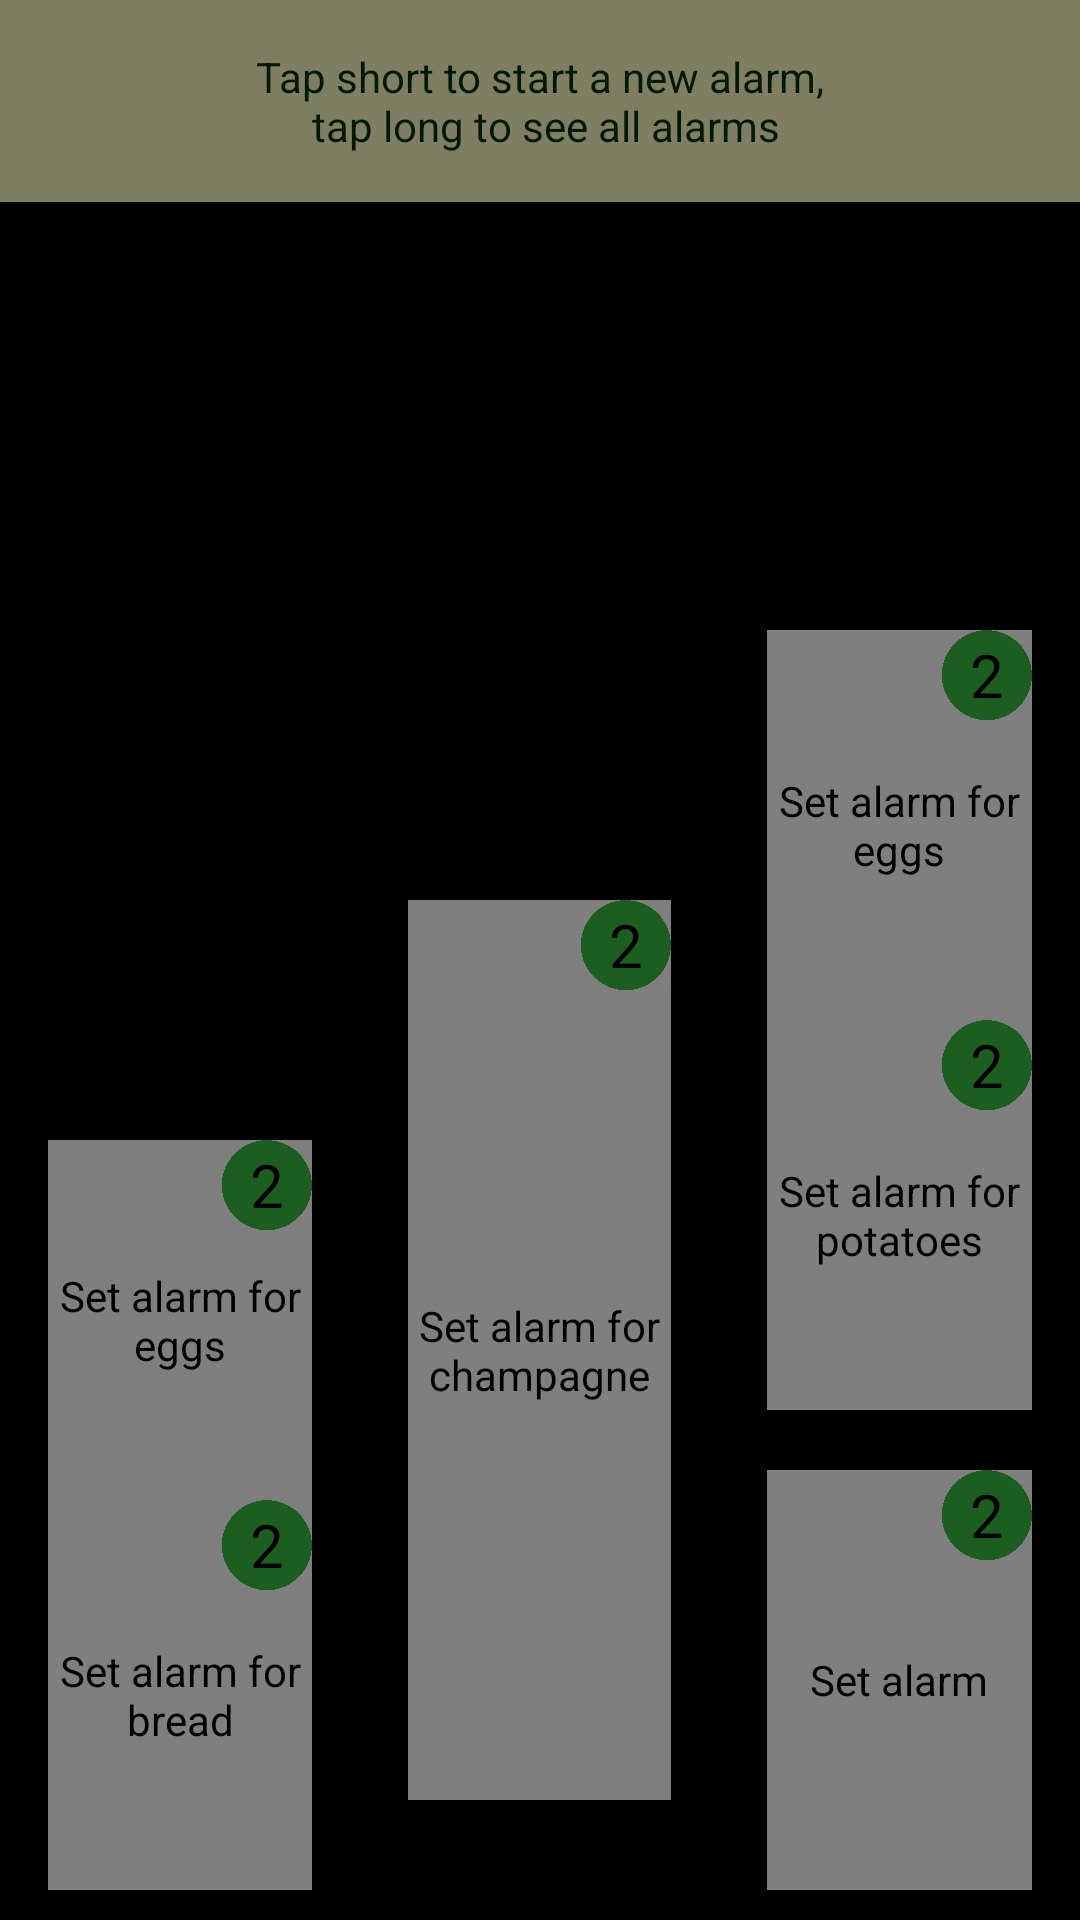

Icon click points for this 1080 × 1920 phone screenshot, format [x,y]:
circle: [987,675], [626,945], [987,1065], [267,1185], [987,1515], [267,1545]
